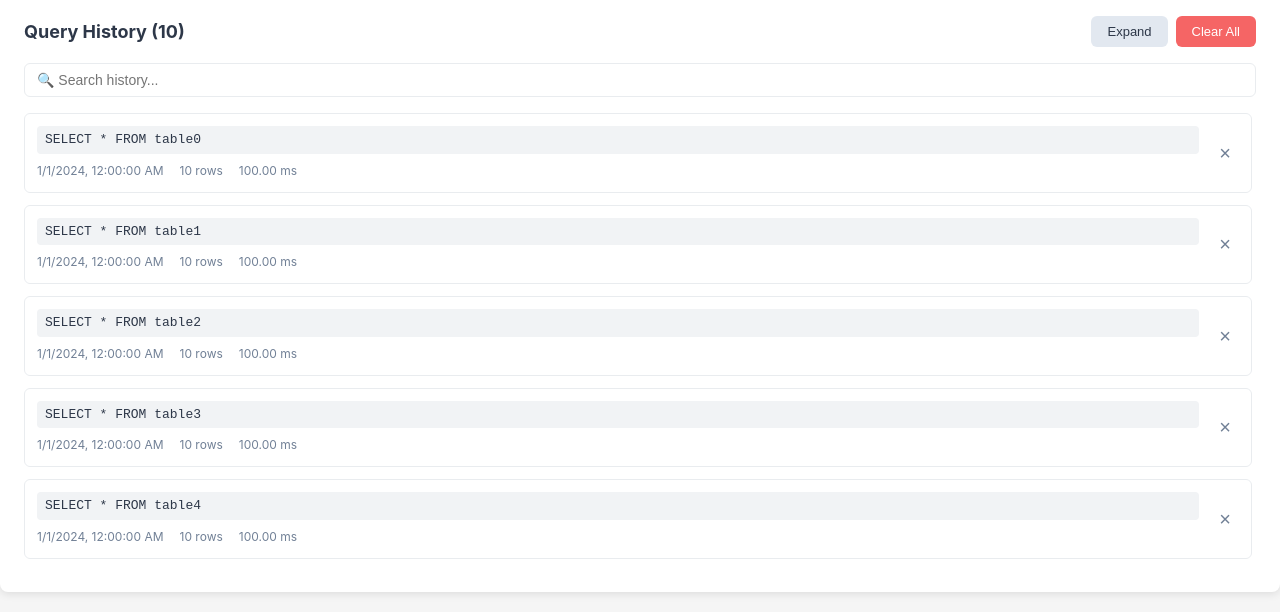
it: QueryHistory › should show expand/collapse functionality
Click the button "Expand" at x=1130, y=32, box [1092,16,1168,47]
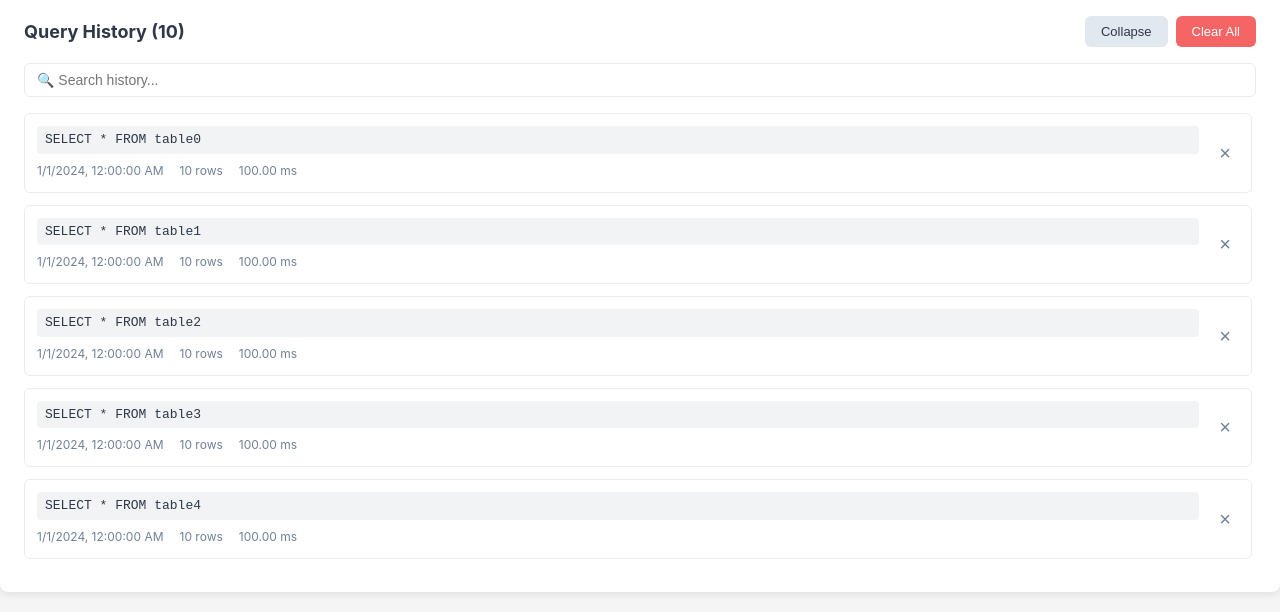
Check: the button "Collapse" is shown, box [1085,16,1168,47]
